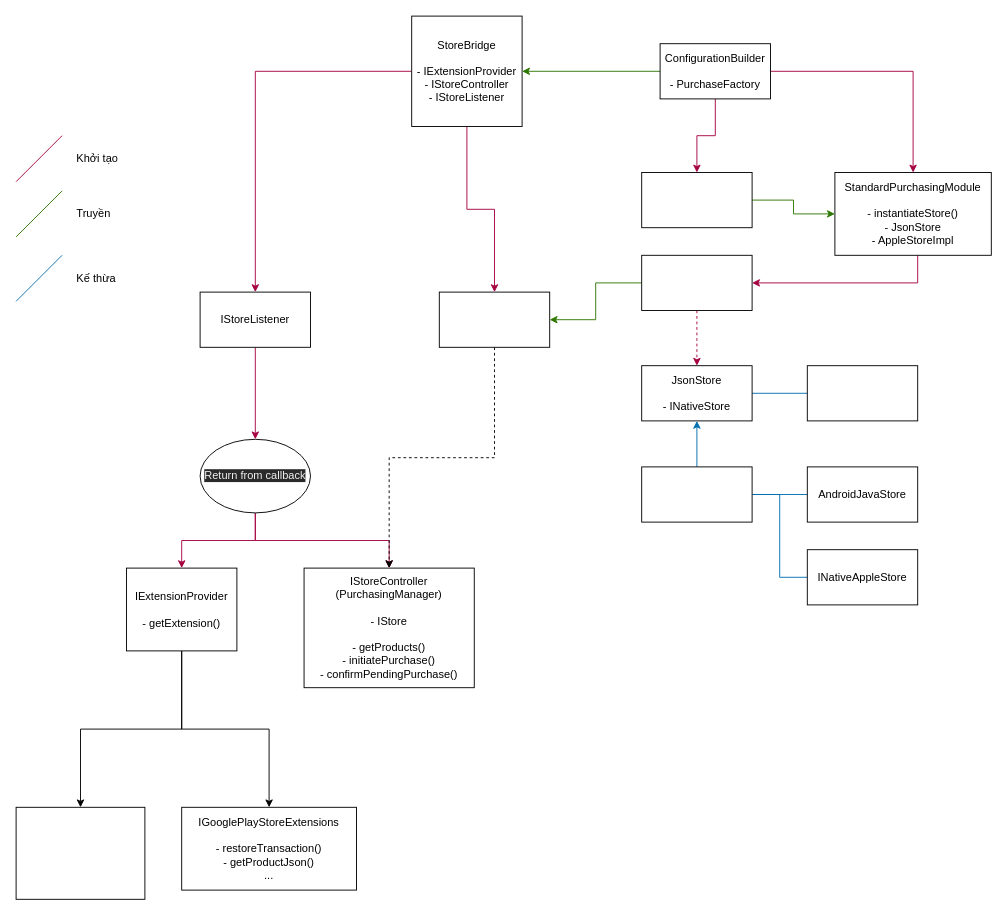
Some shapes in this 1007 by 915 pixel diagram are drawn without their labels. Each missing label, with the box of its shape:
AppleStoreImpl: (806, 365, 918, 421)
IAppleExtensions - restoreTransaction() - getProductDetails() - refresh() ...: (15, 806, 145, 899)
INativeStore: (641, 466, 752, 522)
IStore: (641, 254, 752, 310)
PurchaseFactory: (641, 172, 752, 228)
PurchasingManager - IStore: (438, 291, 550, 347)
